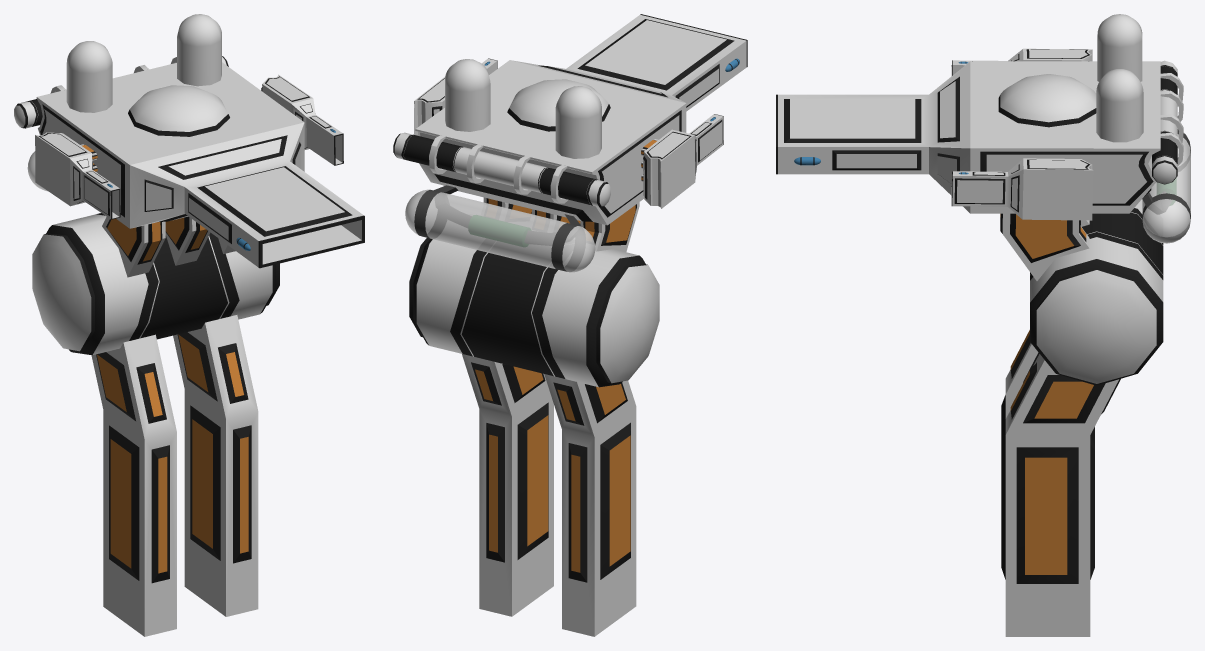
The model's file is tower_slow_upgrade2_asset.fbx.
3 views of the same model, side by side, from view 1: azimuth 30°, elevation 25°; view 2: azimuth 150°, elevation 25°; view 3: azimuth 270°, elevation 25° (orthographic). The views are drawn at different scales.
Visible parts, largest first — view 1: tower_bottom1, tower_gun1; view 2: tower_bottom1, tower_gun1; view 3: tower_gun1, tower_bottom1.
Part boxes in pixels (x1,y1,x2,y2): tower_bottom1: (32,213,279,636); tower_gun1: (14,14,364,277); tower_bottom1: (409,238,659,636); tower_gun1: (393,14,747,272); tower_gun1: (776,14,1190,280); tower_bottom1: (1001,199,1163,636).
Bounding box in the file's own units: 113 × 245 × 163.
